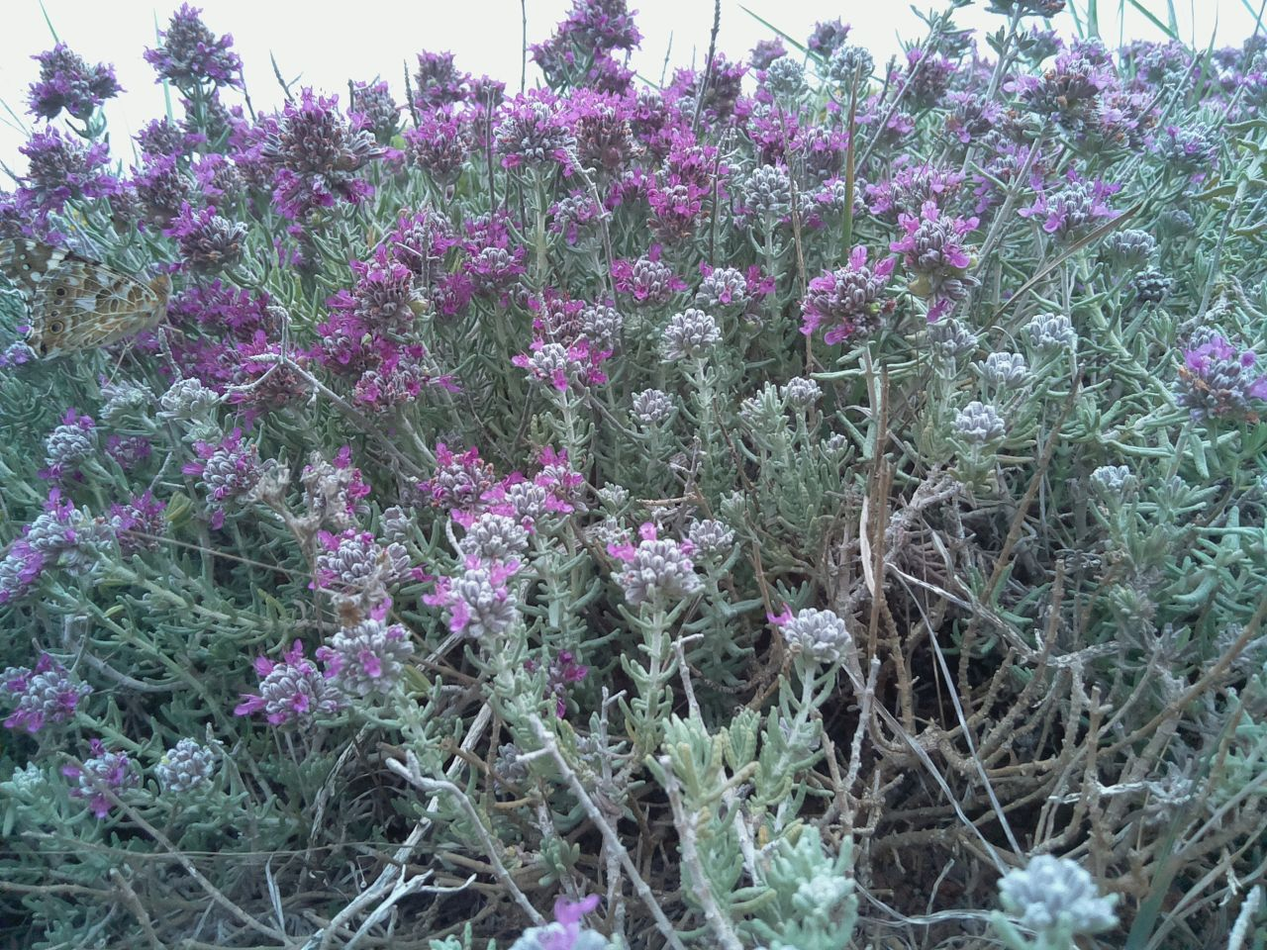Butterfly: (4, 229, 208, 381)
